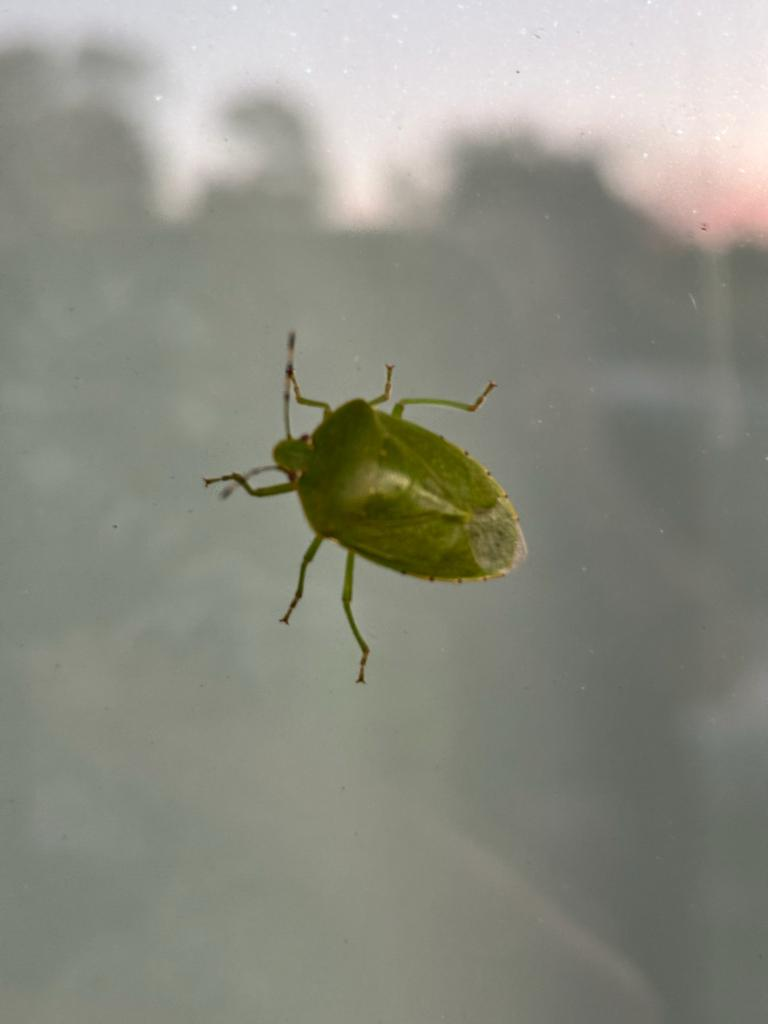stink_bugs: (155, 281, 616, 724)
